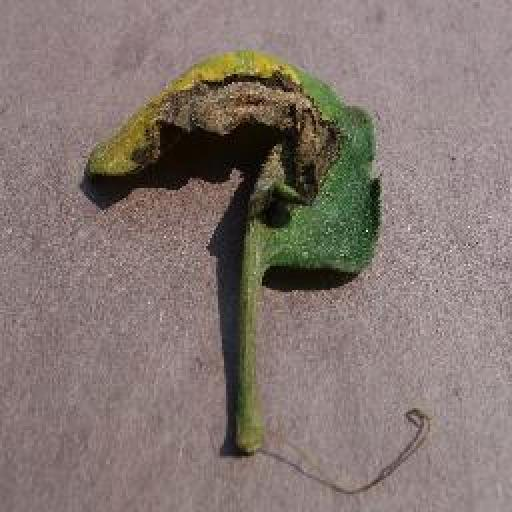disease_tomato: (86, 48, 390, 286)
